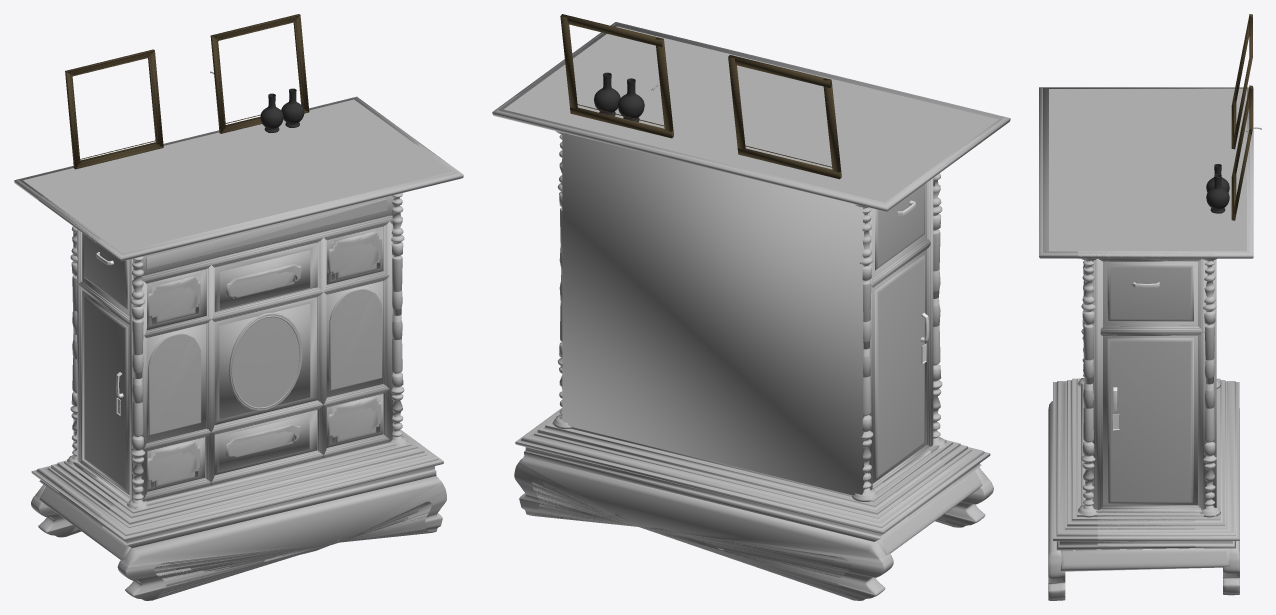
Rendered from ban tho.fbx.
3 renders of one model, left to right at view 1: azimuth 30°, elevation 25°; view 2: azimuth 150°, elevation 25°; view 3: azimuth 270°, elevation 25°, orthographic. The views are drawn at different scales.
Parts seen in each view (by area): view 1: Box025, Arc17, Arc21, Arc20, Arc16, Arc19, Arc18, Arc22, Archmodels_64_17; view 2: Box025, Arc18, Arc22, Arc23, Arc19, Arc20, Arc16, Arc21, Arc17, Archmodels_64_17, Archmodels_64_016; view 3: Box025, Archmodels_64_016, Arc20, Arc16, Arc17, AM109_057_01, Arc21.
Boxes of the visible parts, bbox=[...] form: Box025: bbox=[14, 96, 463, 600]; Arc17: bbox=[148, 50, 163, 147]; Arc21: bbox=[293, 15, 309, 111]; Arc20: bbox=[210, 34, 225, 133]; Arc16: bbox=[65, 69, 80, 168]; Arc19: bbox=[73, 142, 163, 169]; Arc18: bbox=[65, 49, 154, 76]; Arc22: bbox=[212, 14, 300, 41]; Archmodels_64_17: bbox=[260, 93, 283, 132]; Box025: bbox=[492, 22, 1010, 600]; Arc18: bbox=[728, 55, 831, 87]; Arc22: bbox=[561, 14, 662, 47]; Arc23: bbox=[570, 107, 673, 138]; Arc19: bbox=[737, 148, 841, 179]; Arc20: bbox=[655, 38, 673, 134]; Arc16: bbox=[823, 78, 841, 175]; Arc21: bbox=[560, 16, 577, 108]; Arc17: bbox=[728, 57, 745, 149]; Archmodels_64_17: bbox=[618, 78, 644, 121]; Archmodels_64_016: bbox=[594, 72, 620, 116]; Box025: bbox=[1039, 87, 1253, 600]; Archmodels_64_016: bbox=[1206, 174, 1229, 213]; Arc20: bbox=[1231, 85, 1252, 176]; Arc16: bbox=[1231, 14, 1252, 105]; Arc17: bbox=[1231, 57, 1252, 148]; AM109_057_01: bbox=[1112, 282, 1159, 430]; Arc21: bbox=[1231, 128, 1251, 220].
Size of what is drawn, in the model's own units: 159 by 201 by 88.97.
